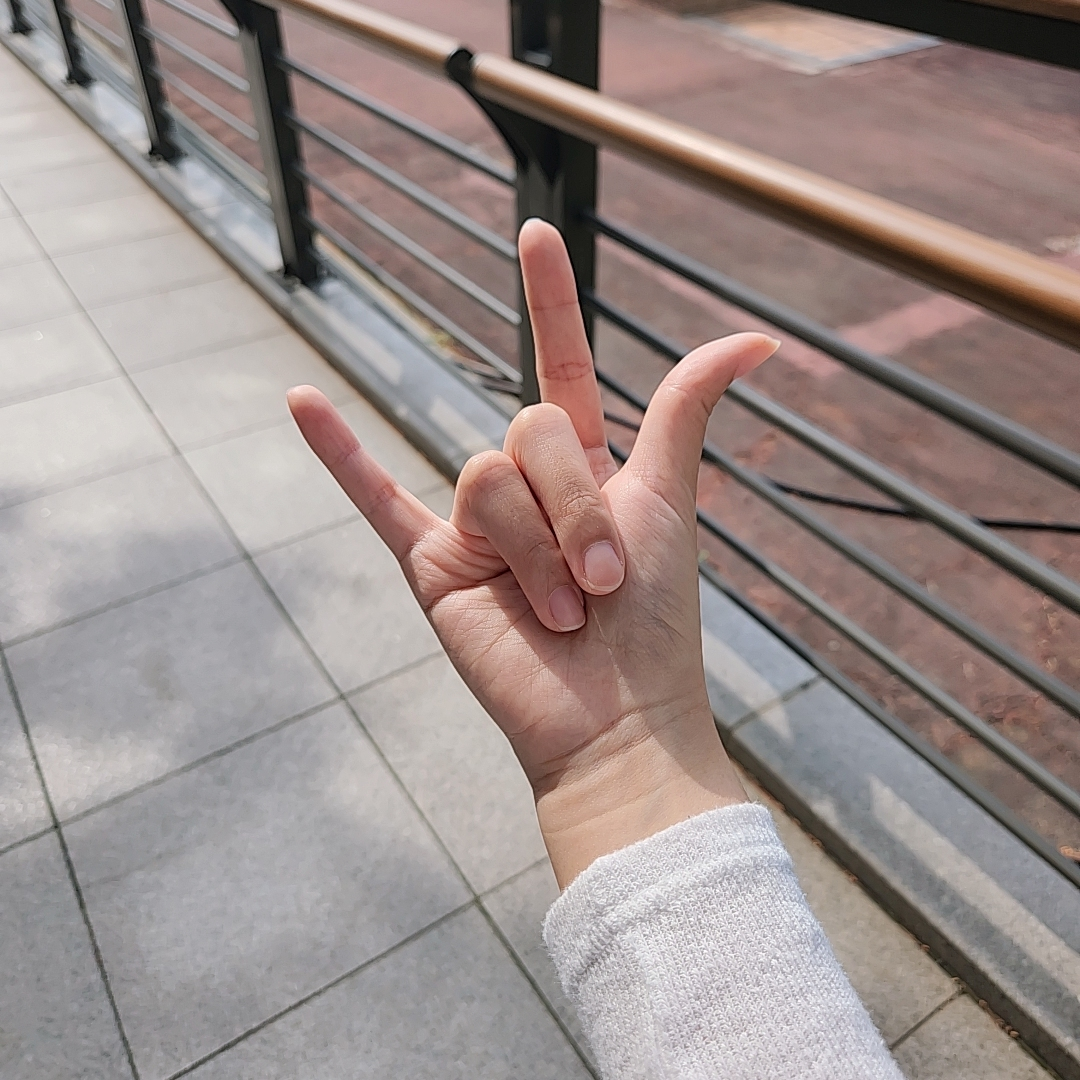iloveyou: (286, 218, 783, 711)
